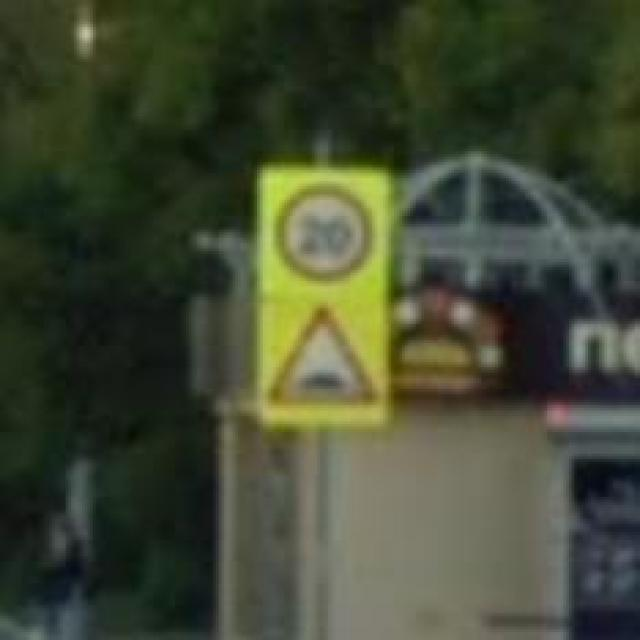traffic_sign: (265, 300, 386, 408), (274, 181, 380, 286)
